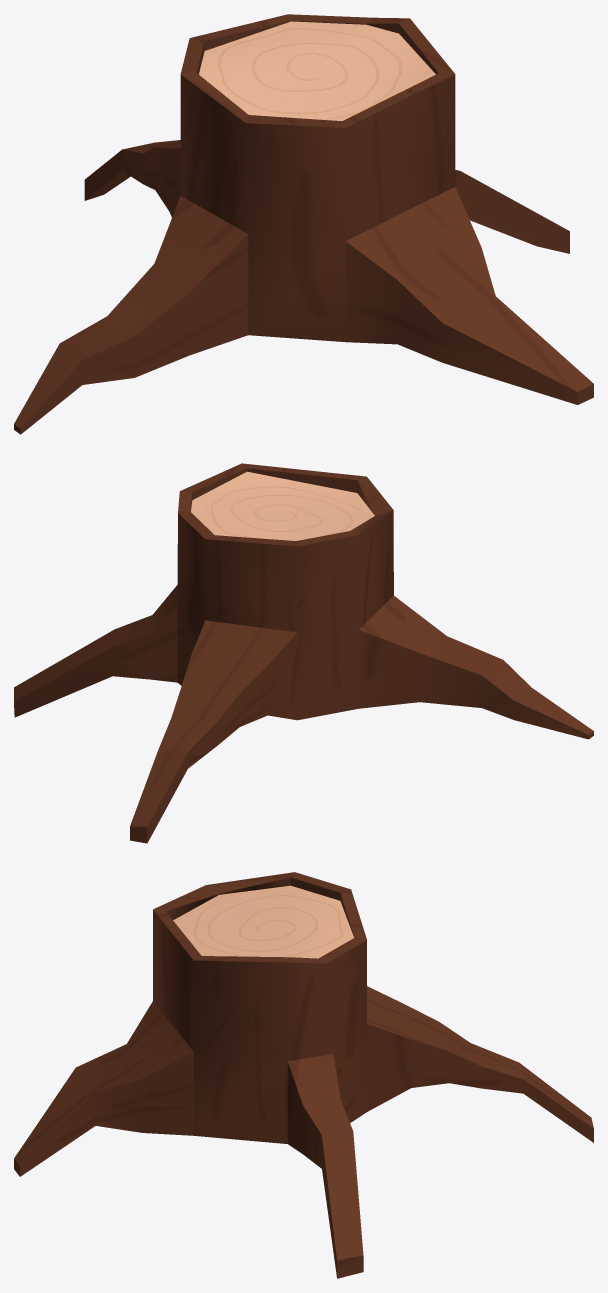
The model's file is TreeStump.fbx.
The picture shows the model from 3 angles, top to bottom: view 1: azimuth 30°, elevation 25°; view 2: azimuth 150°, elevation 25°; view 3: azimuth 270°, elevation 25°; orthographic projection. The views are drawn at different scales.
Parts seen in each view (by area): view 1: Tree_Stump; view 2: Tree_Stump; view 3: Tree_Stump.
Boxes of the visible parts, bbox=[...] form: Tree_Stump: bbox=[14, 14, 593, 434]; Tree_Stump: bbox=[14, 463, 593, 843]; Tree_Stump: bbox=[14, 872, 593, 1278].
Size of the model in its own units: 6.08 by 2.7 by 5.84.
